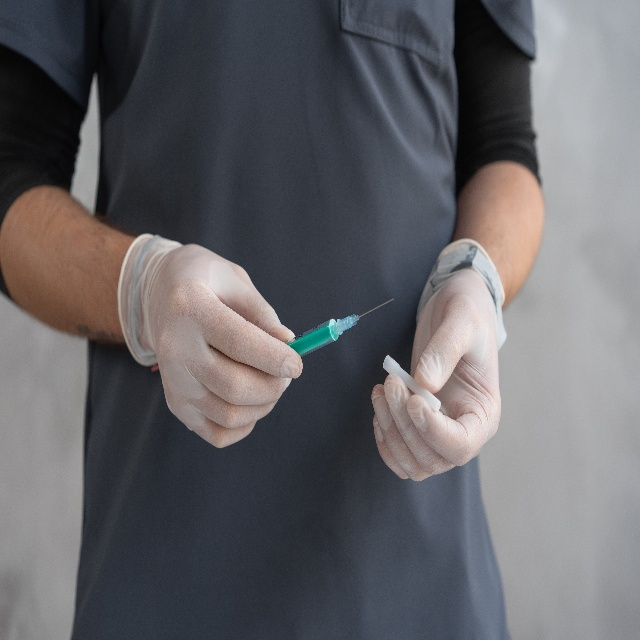Guantes: (116, 231, 303, 449), (371, 237, 508, 482)
Sin_guantes: (152, 243, 302, 449), (372, 272, 500, 482)
